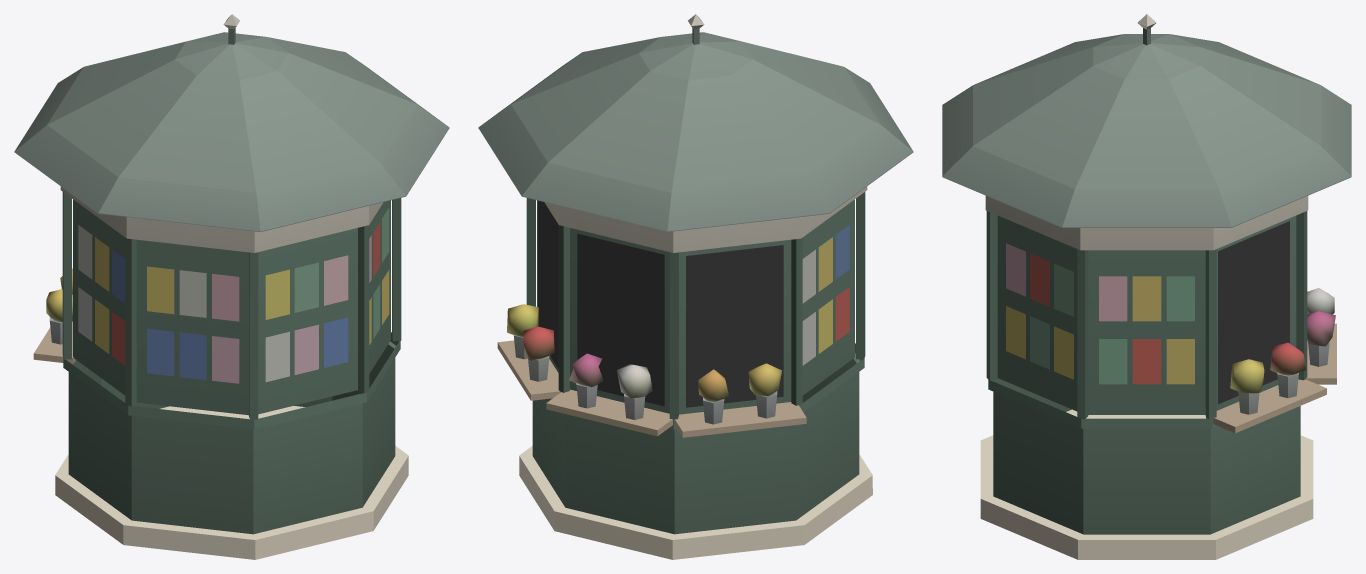
The model's file is SM_BM_BP_Kiosk.glb.
The picture shows the model from 3 angles, left to right: view 1: azimuth 30°, elevation 25°; view 2: azimuth 150°, elevation 25°; view 3: azimuth 270°, elevation 25°; orthographic projection.
Visible parts, largest first — view 1: SM_BM_BP_Kiosk; view 2: SM_BM_BP_Kiosk; view 3: SM_BM_BP_Kiosk.
Boxes of the visible parts, x1,y1,x2,y2 form: SM_BM_BP_Kiosk: (14,14,449,559); SM_BM_BP_Kiosk: (478,14,913,559); SM_BM_BP_Kiosk: (942,14,1351,559).
Bounding box in the file's own units: 2.96 × 3.79 × 2.96.
